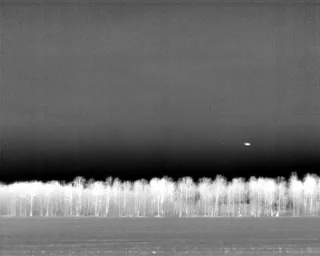DRONE: (241, 138, 254, 150)
